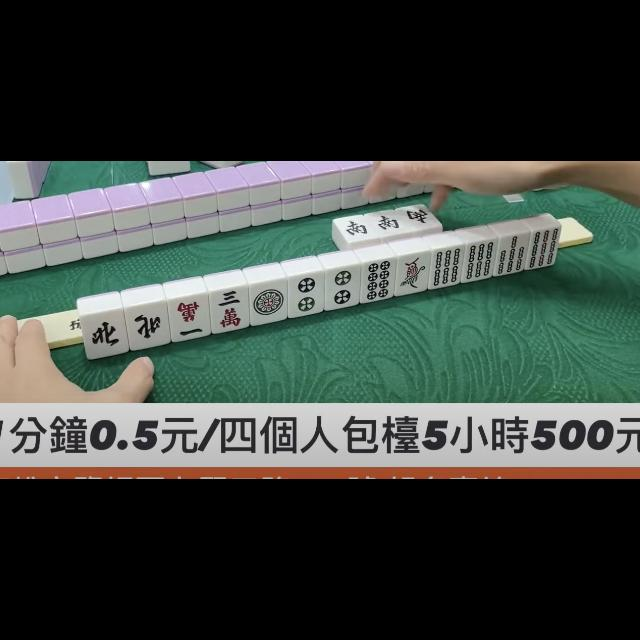b1: (397, 252, 429, 292)
b6: (431, 247, 462, 286), (464, 240, 494, 280)
b7: (496, 234, 526, 272)
b9: (528, 228, 560, 266)
c1: (171, 294, 209, 338)
c3: (210, 288, 248, 330)
d1: (250, 280, 286, 322)
d2: (288, 274, 324, 314), (326, 266, 360, 306)
d8: (362, 258, 394, 300)
wn: (85, 312, 125, 354), (128, 303, 168, 345)
ws: (340, 215, 372, 239), (372, 210, 402, 234), (403, 206, 433, 228)
